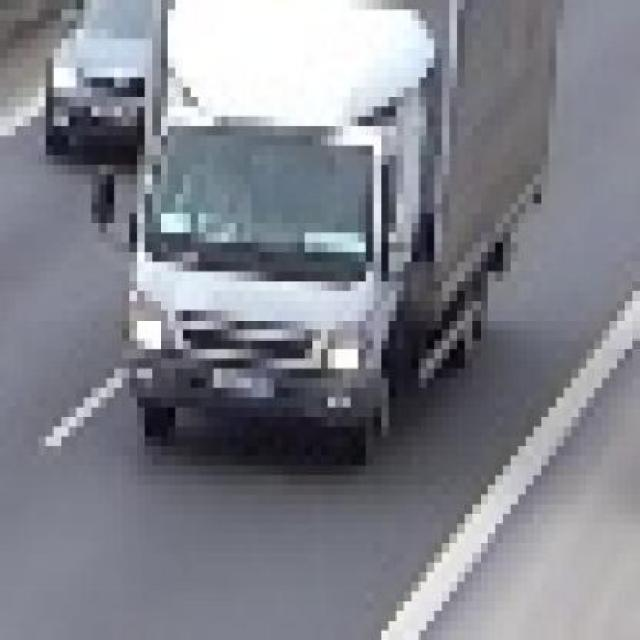truck: (92, 1, 541, 427)
